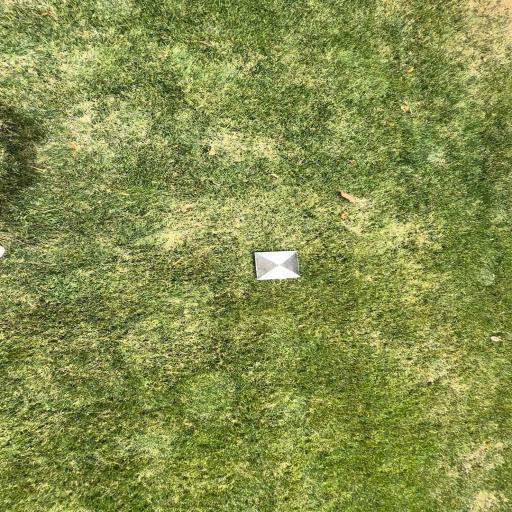target: (255, 251, 301, 280)
